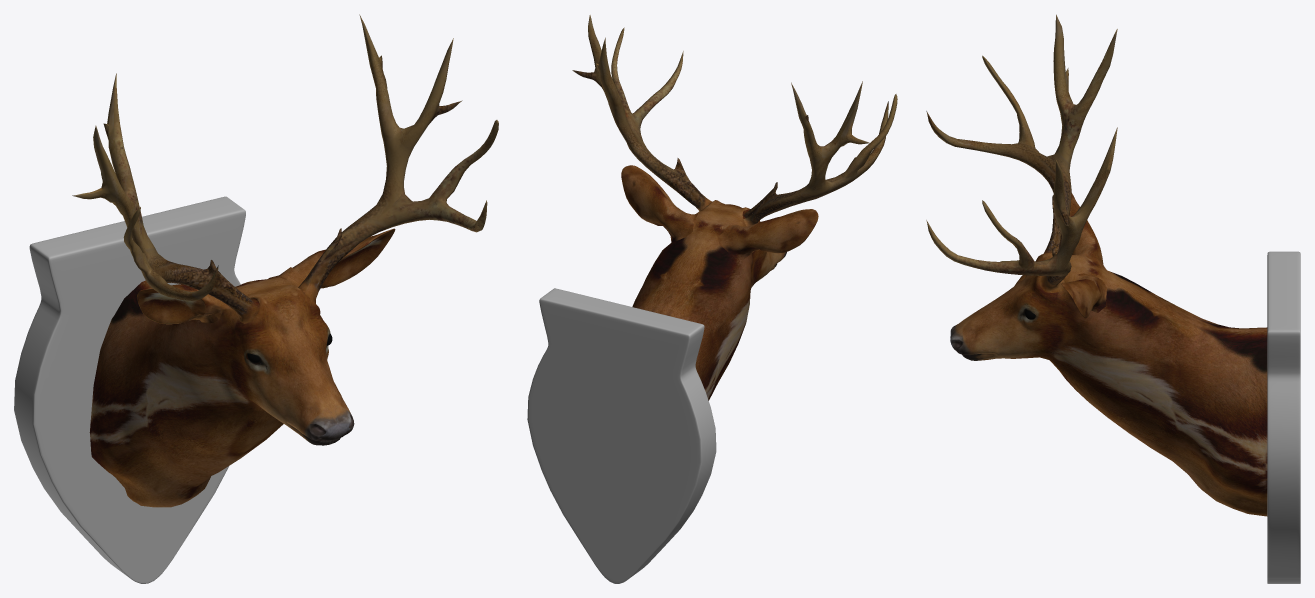
File: deer.fbx
The picture shows the model from 3 angles, left to right: view 1: azimuth 30°, elevation 25°; view 2: azimuth 150°, elevation 25°; view 3: azimuth 270°, elevation 25°; orthographic projection. The views are drawn at different scales.
Parts seen in each view (by area): view 1: deer3:deep, Deer_Taxidermy:Box001; view 2: Deer_Taxidermy:Box001, deer3:deep; view 3: deer3:deep, Deer_Taxidermy:Box001.
Part boxes in pixels (x1,y1,x2,y2): deer3:deep: [72, 14, 498, 507]; Deer_Taxidermy:Box001: [14, 196, 245, 583]; Deer_Taxidermy:Box001: [527, 288, 716, 583]; deer3:deep: [572, 15, 897, 400]; deer3:deep: [926, 14, 1267, 516]; Deer_Taxidermy:Box001: [1267, 251, 1300, 583].
Size of the model in its own units: 64.53 by 95.65 by 64.32.
